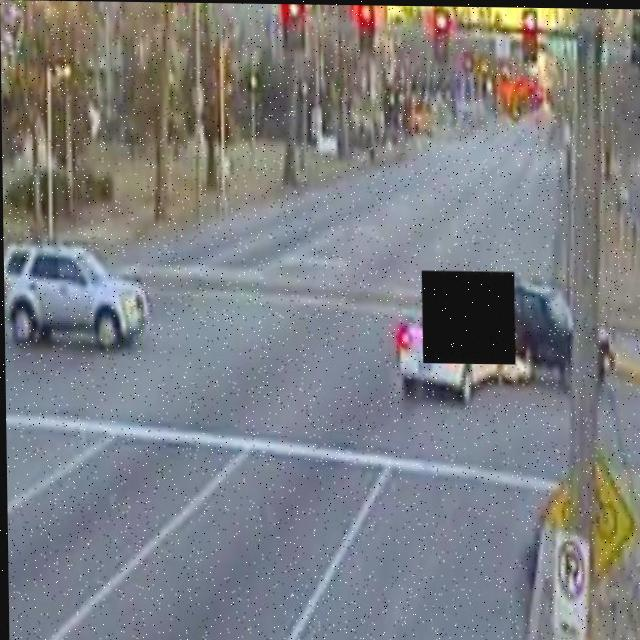multiple_accident: (372, 233, 608, 426)
normal: (0, 230, 175, 353)
